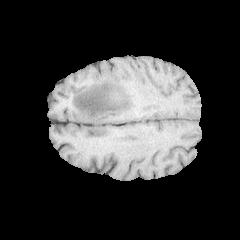glioma: (68, 70, 140, 121)
